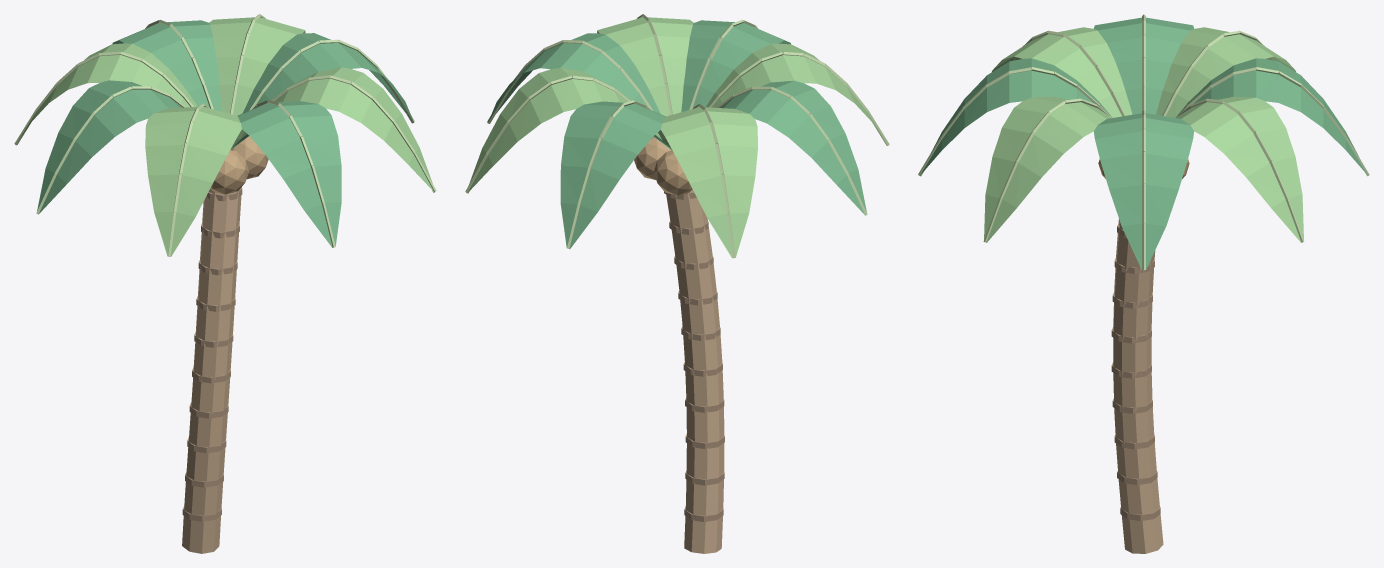
File: tree-palm.glb
The picture shows the model from 3 angles, left to right: view 1: azimuth 30°, elevation 25°; view 2: azimuth 150°, elevation 25°; view 3: azimuth 270°, elevation 25°; orthographic projection. The views are drawn at different scales.
Visible parts, largest first — view 1: frond_mesh, frond_light_mesh, trunk_mesh, vein_mesh, trunk_dark_mesh, coconut_mesh; view 2: frond_mesh, frond_light_mesh, trunk_mesh, vein_mesh, trunk_dark_mesh, coconut_mesh; view 3: frond_light_mesh, frond_mesh, trunk_mesh, vein_mesh, trunk_dark_mesh.
Boxes of the visible parts, bbox=[...] form: frond_mesh: bbox=[37, 20, 413, 247]; frond_light_mesh: bbox=[17, 17, 434, 256]; trunk_mesh: bbox=[182, 188, 241, 553]; vein_mesh: bbox=[14, 14, 436, 256]; trunk_dark_mesh: bbox=[182, 187, 242, 521]; coconut_mesh: bbox=[210, 136, 268, 194]; frond_mesh: bbox=[488, 20, 866, 248]; frond_light_mesh: bbox=[467, 17, 884, 257]; trunk_mesh: bbox=[666, 189, 724, 553]; vein_mesh: bbox=[465, 14, 889, 258]; trunk_dark_mesh: bbox=[664, 191, 724, 521]; coconut_mesh: bbox=[634, 136, 692, 195]; frond_light_mesh: bbox=[984, 27, 1303, 242]; frond_mesh: bbox=[920, 17, 1367, 269]; trunk_mesh: bbox=[1113, 219, 1163, 553]; vein_mesh: bbox=[918, 14, 1369, 270]; trunk_dark_mesh: bbox=[1111, 223, 1160, 520].
Size of the model in its own units: 3.32 by 4 by 3.32.
